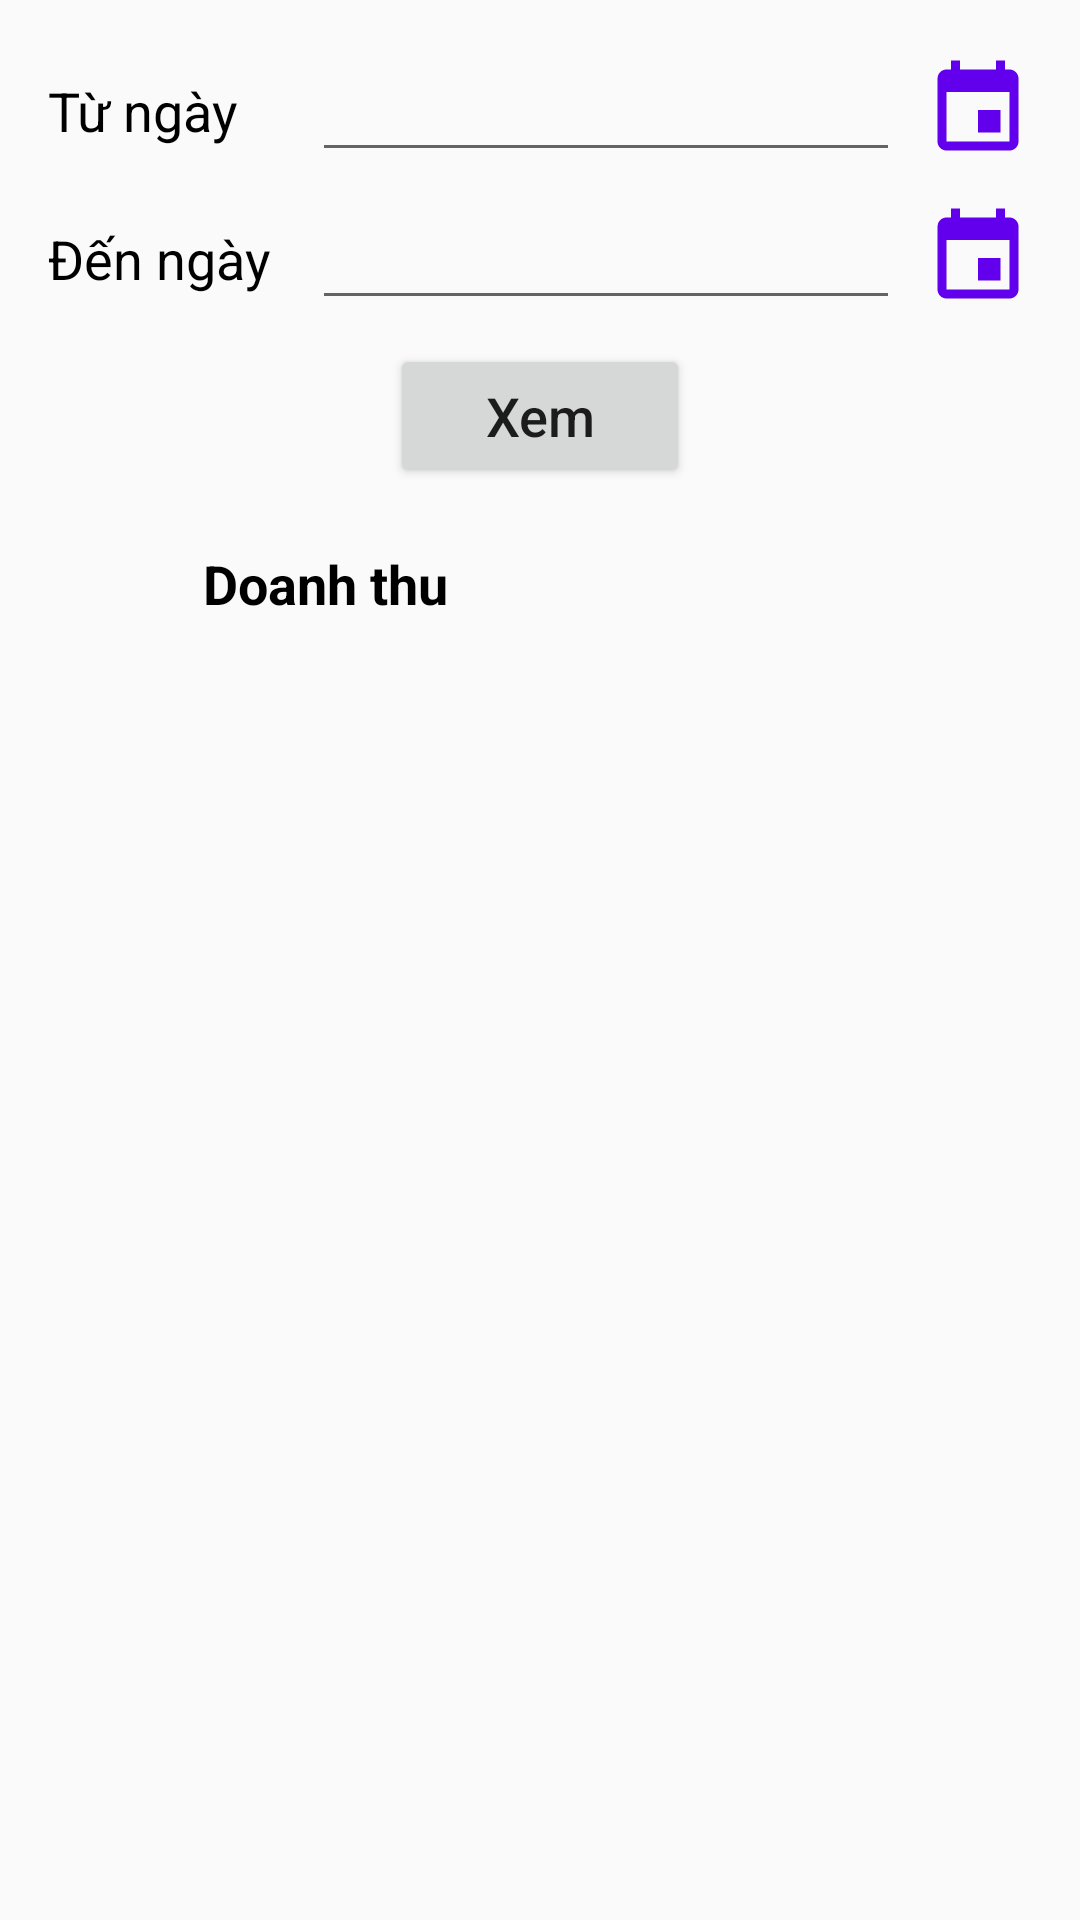

Where to tap for icons on this 1080 × 1920 app screen, as [x,y]:
date: [978,105], [978,253]
